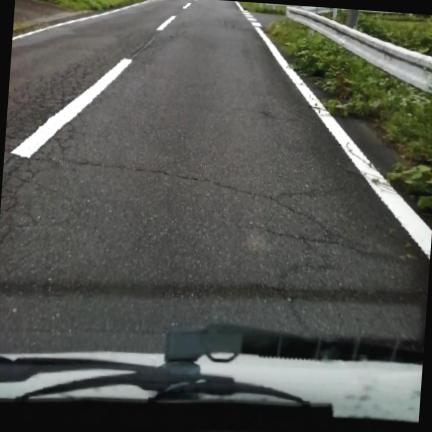Road: (0, 0, 429, 352)
